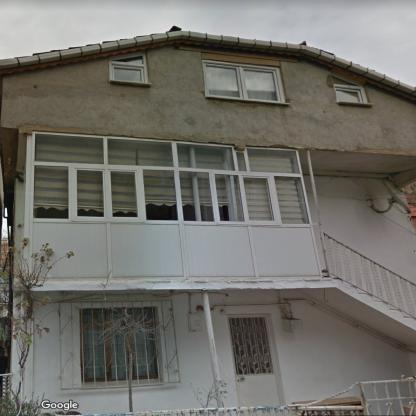door: (230, 316, 280, 405)
window: (33, 135, 243, 221), (82, 307, 158, 382), (236, 149, 308, 223), (207, 64, 276, 98), (334, 78, 363, 101), (114, 57, 144, 79)
